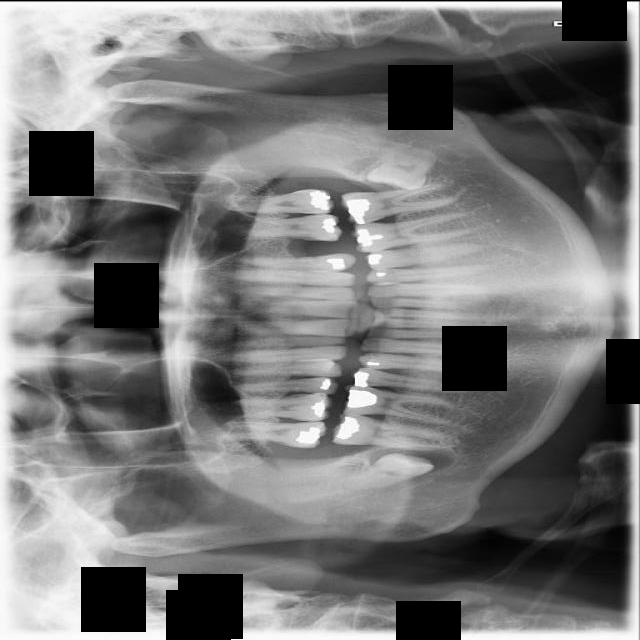52: (345, 196, 374, 225), (336, 413, 362, 443), (347, 388, 378, 409), (356, 226, 385, 246), (307, 187, 332, 210), (310, 397, 331, 418), (297, 426, 321, 443), (352, 369, 370, 387), (326, 257, 345, 268), (320, 376, 333, 391), (323, 217, 336, 232), (368, 254, 382, 264), (366, 361, 380, 365), (376, 271, 386, 276)
73: (588, 29, 590, 47)
BioHorizons Implant: (227, 188, 333, 214)
Biomet 3i Implant: (366, 136, 439, 196)
Blue Sky Bio Implant: (341, 178, 460, 225)
Caries: (224, 420, 326, 447)
Implant: (332, 411, 449, 454)
Keystone Dental Implant: (339, 441, 435, 496)
